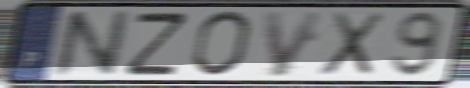9: (389, 9, 446, 79)
N: (51, 8, 134, 79)
O: (189, 9, 254, 80)
V: (260, 9, 327, 79)
X: (316, 11, 389, 78)
Z: (123, 10, 191, 78)
